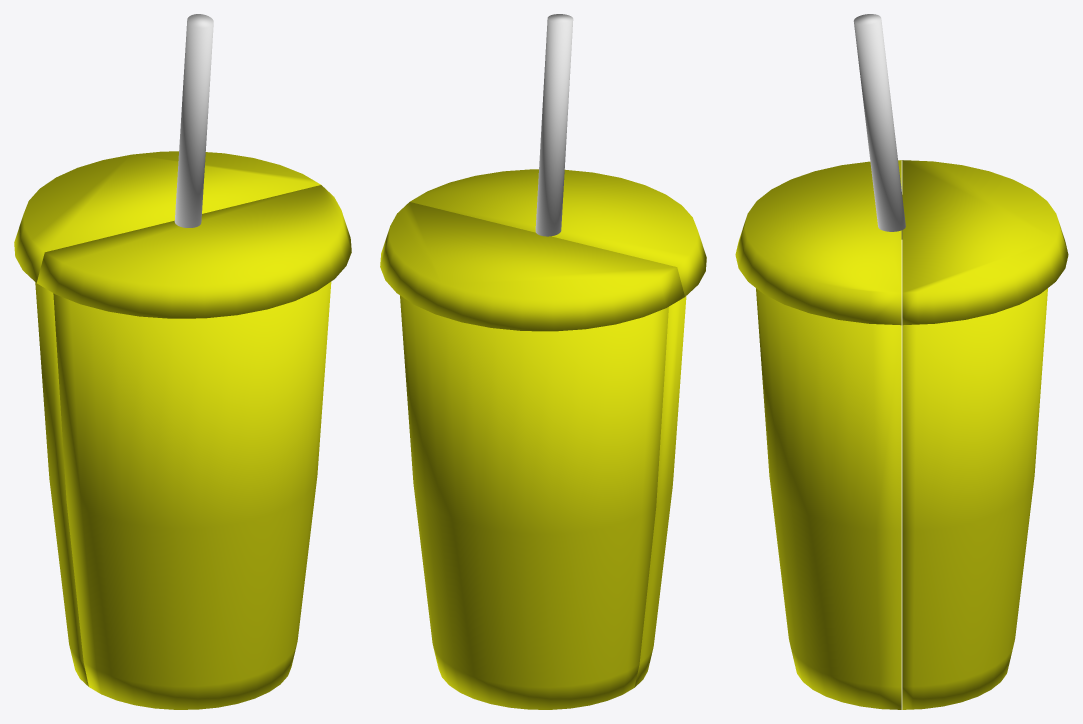
The model's file is glassGold.fbx.
3 views of the same model, side by side, from view 1: azimuth 30°, elevation 25°; view 2: azimuth 150°, elevation 25°; view 3: azimuth 270°, elevation 25° (orthographic). The views are drawn at different scales.
Visible parts, largest first — view 1: Cylinder, Cylinder.002, Cylinder.001; view 2: Cylinder.002, Cylinder, Cylinder.001; view 3: Cylinder.002, Cylinder, Cylinder.001.
Boxes of the visible parts, x1=… form: Cylinder: x1=36, y1=185, x2=351, y2=709; Cylinder.002: x1=14, y1=151, x2=320, y2=686; Cylinder.001: x1=174, y1=14, x2=213, y2=227; Cylinder.002: x1=380, y1=202, x2=684, y2=709; Cylinder: x1=410, y1=169, x2=706, y2=687; Cylinder.001: x1=535, y1=14, x2=573, y2=236; Cylinder.002: x1=902, y1=160, x2=1068, y2=709; Cylinder: x1=735, y1=160, x2=901, y2=709; Cylinder.001: x1=853, y1=14, x2=905, y2=239.
Bounding box in the file's own units: 278 × 597 × 279.
